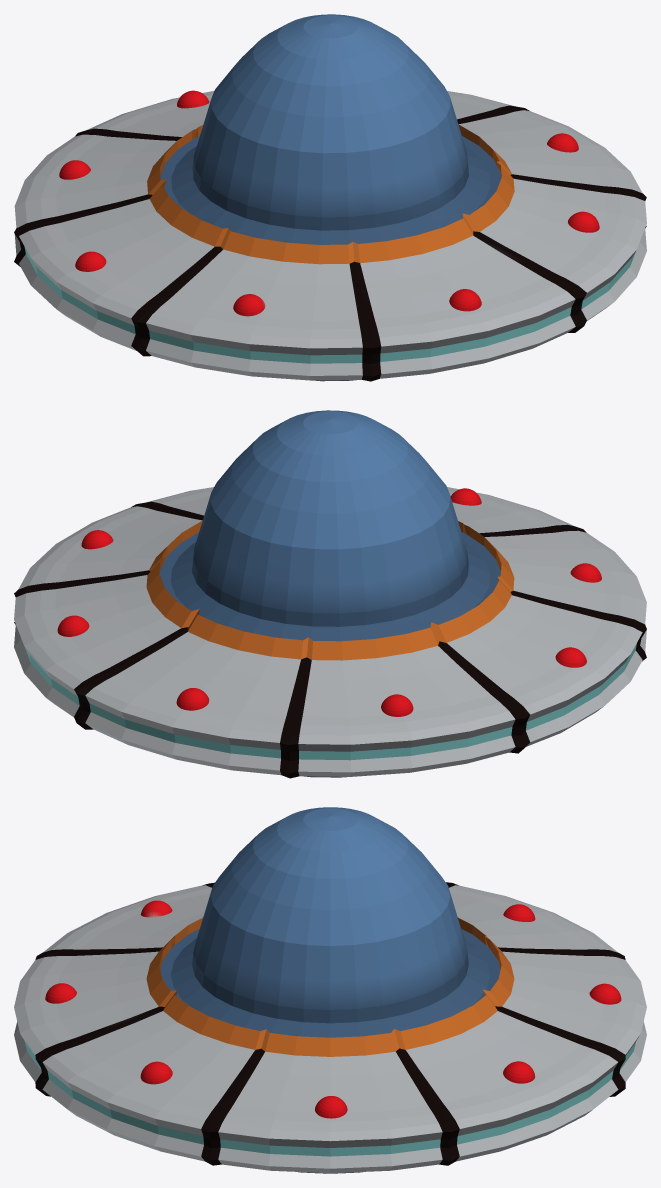
File: Ovni.fbx
3 views of the same model, one above another, from view 1: azimuth 30°, elevation 25°; view 2: azimuth 150°, elevation 25°; view 3: azimuth 270°, elevation 25° (orthographic).
Parts seen in each view (by area): view 1: OvniCorpo; view 2: OvniCorpo; view 3: OvniCorpo.
Boxes of the visible parts, bbox=[...] form: OvniCorpo: bbox=[14, 14, 646, 381]; OvniCorpo: bbox=[14, 410, 646, 778]; OvniCorpo: bbox=[14, 807, 646, 1173].
Bounding box in the file's own units: 2016 × 1037 × 2016.
